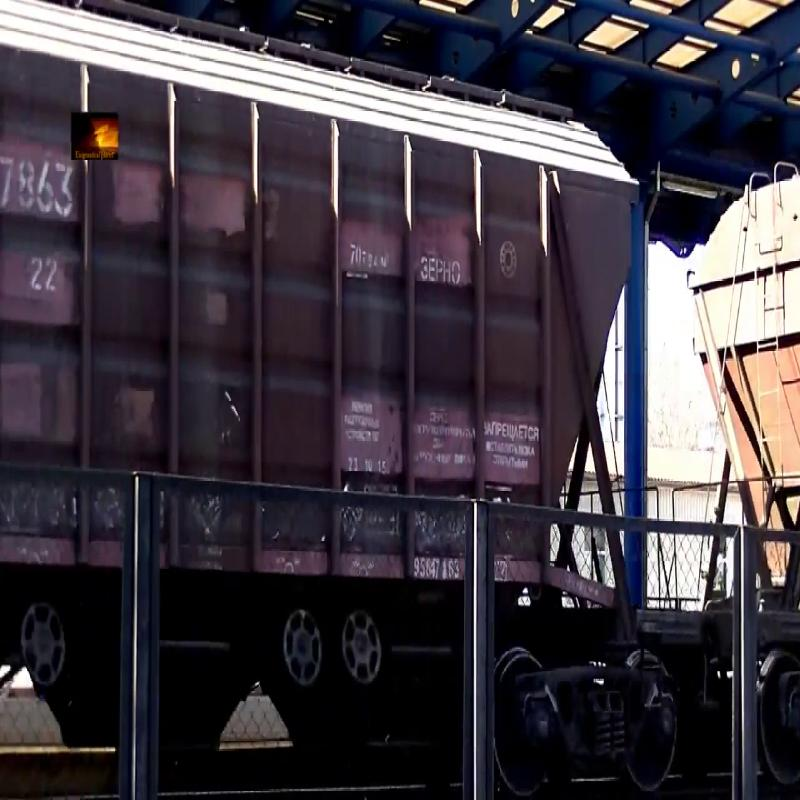train: (1, 4, 646, 784), (691, 1, 800, 779)
